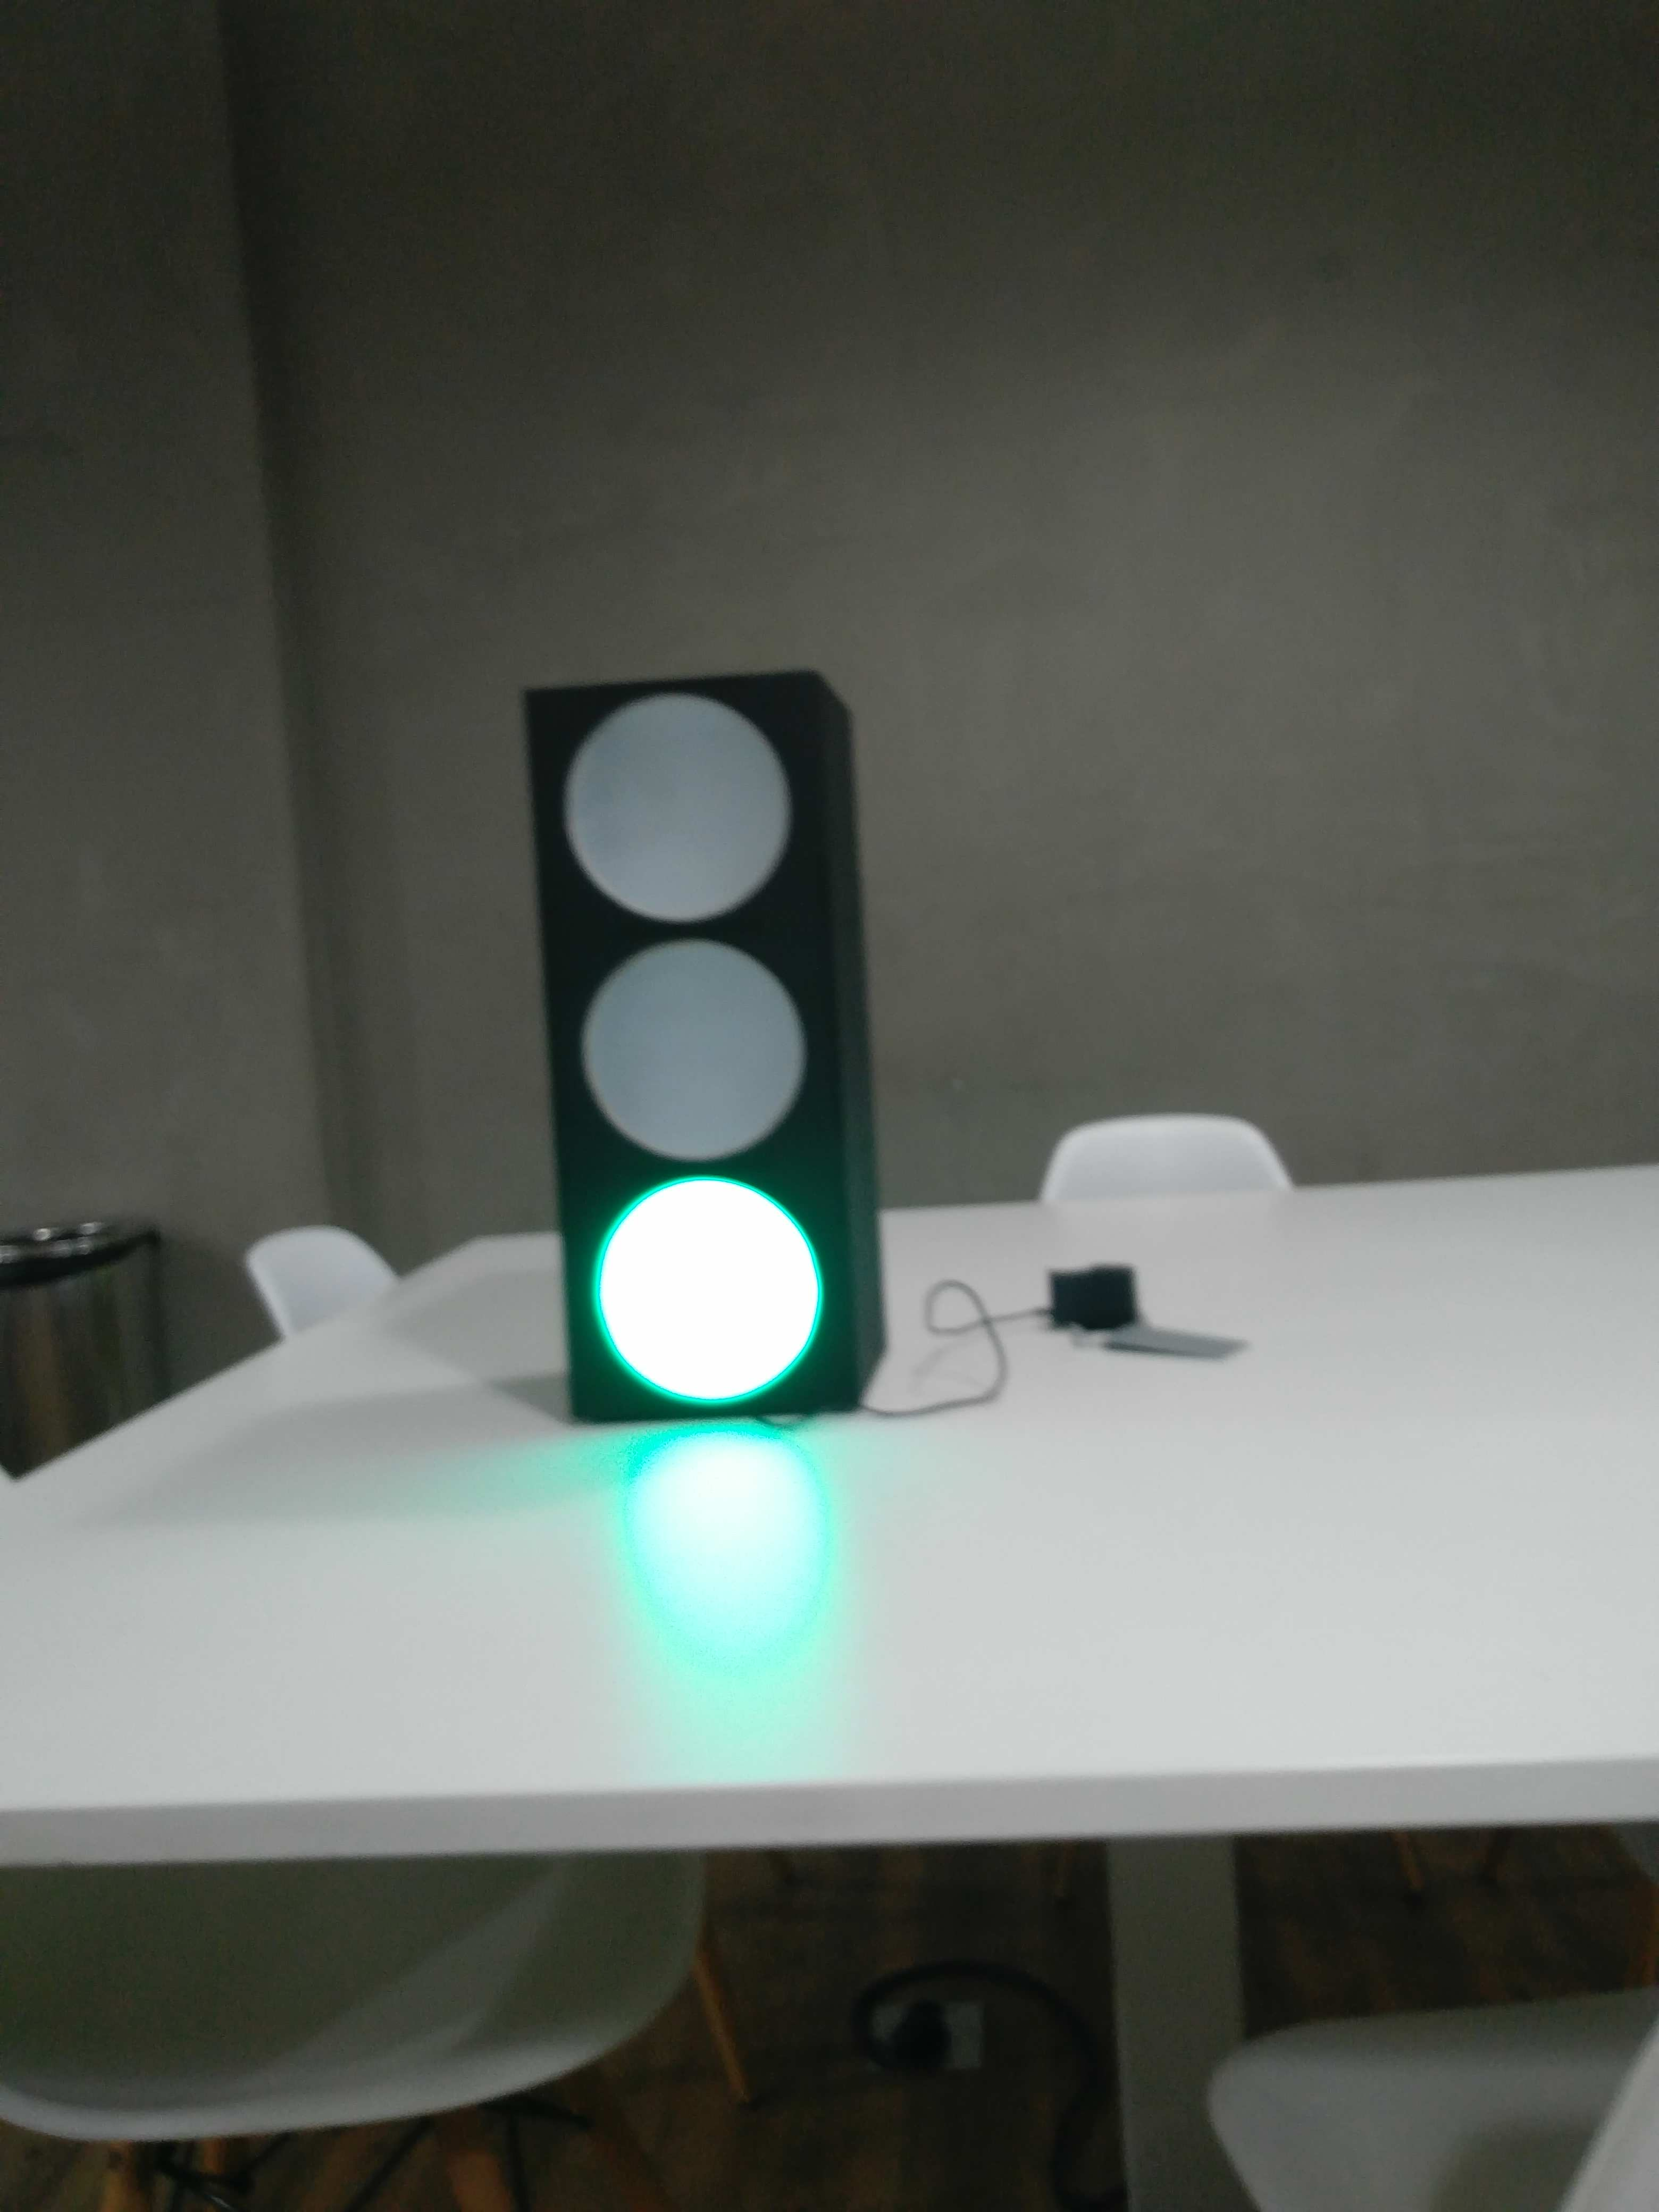go: (521, 669, 890, 1423)
